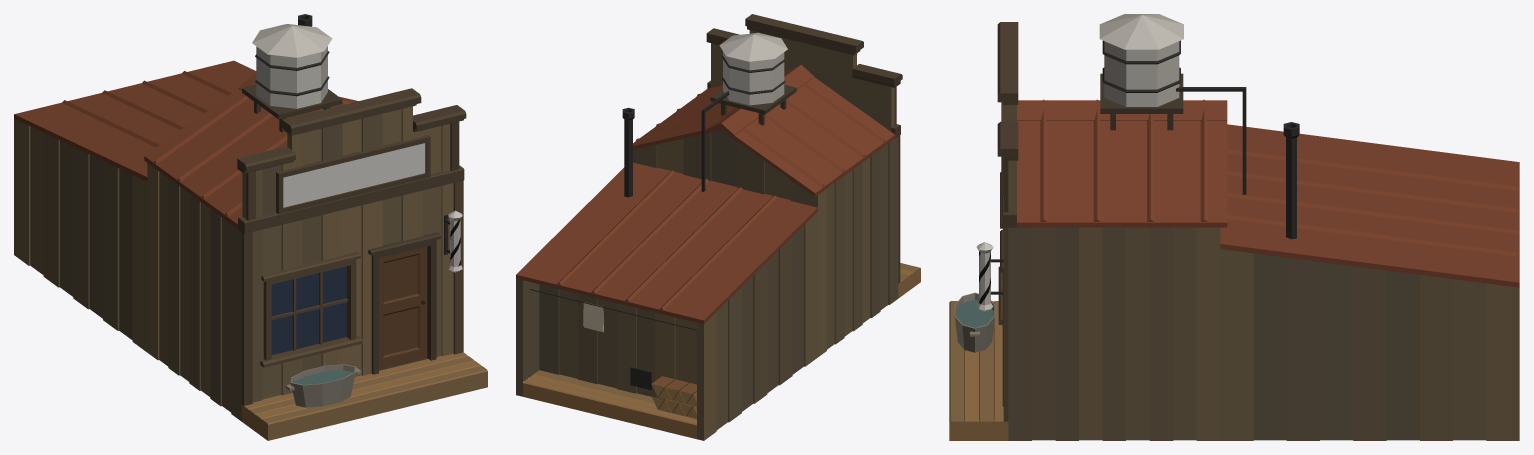
File: barber-and-bath-house-e0ff5c.glb
The picture shows the model from 3 angles, left to right: view 1: azimuth 30°, elevation 25°; view 2: azimuth 150°, elevation 25°; view 3: azimuth 270°, elevation 25°; orthographic projection. The views are drawn at different scales.
Parts seen in each view (by area): view 1: house-mesh, door-mesh, tub-mesh; view 2: house-mesh, towel-1-mesh; view 3: house-mesh, tub-mesh.
Part boxes in pixels (<box>): house-mesh: <box>14,14,487,440</box>; door-mesh: <box>379,246,427,369</box>; tub-mesh: <box>285,364,361,407</box>; house-mesh: <box>516,14,920,440</box>; towel-1-mesh: <box>583,302,603,332</box>; house-mesh: <box>949,14,1519,440</box>; tub-mesh: <box>954,292,995,352</box>.
Size of the model in its own units: 4 by 5.66 by 8.
